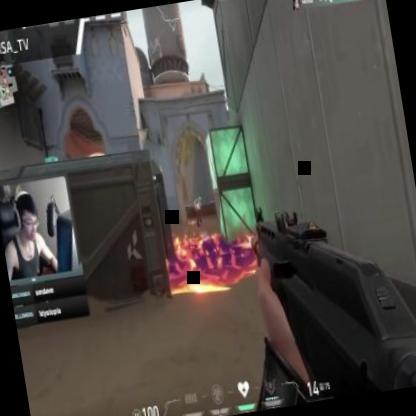enemy: (192, 196, 204, 226)
enemy_head: (194, 196, 199, 204)
